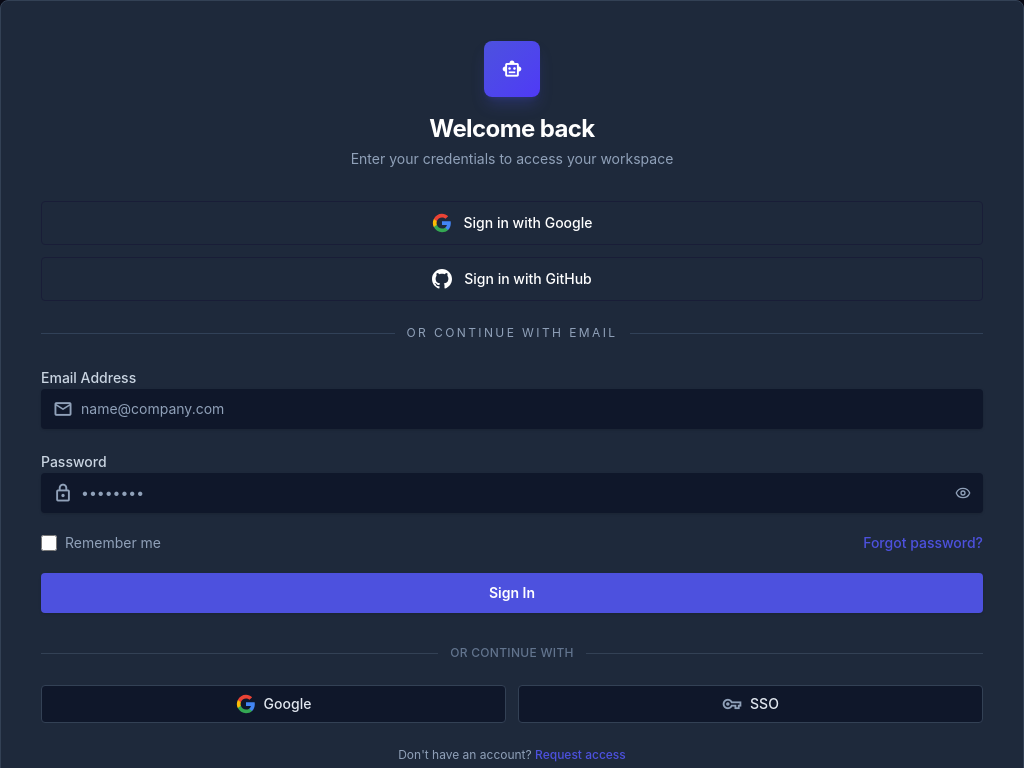
LoginForm › shows validation errors when submitting invalid form
The width and height of the screenshot is (1024, 768).
Step 1. Click the button "Sign In" → coordinates (512, 593), box [41,573,983,613]
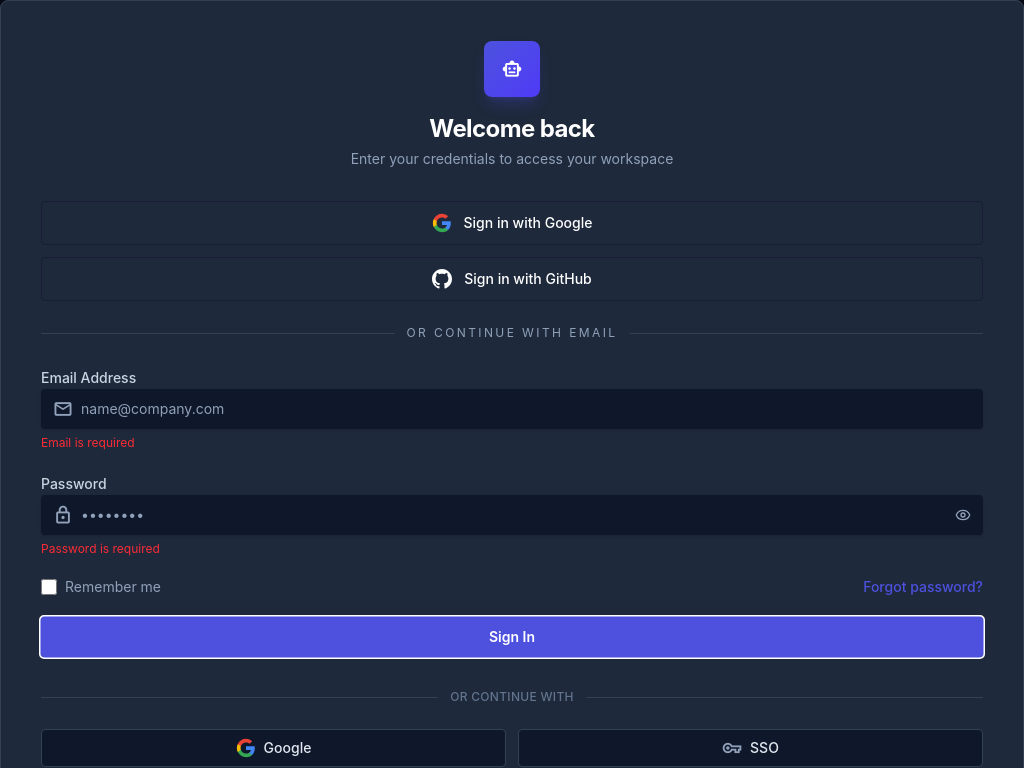
Result: the message "Email is required" is shown at [41,435,135,450]
